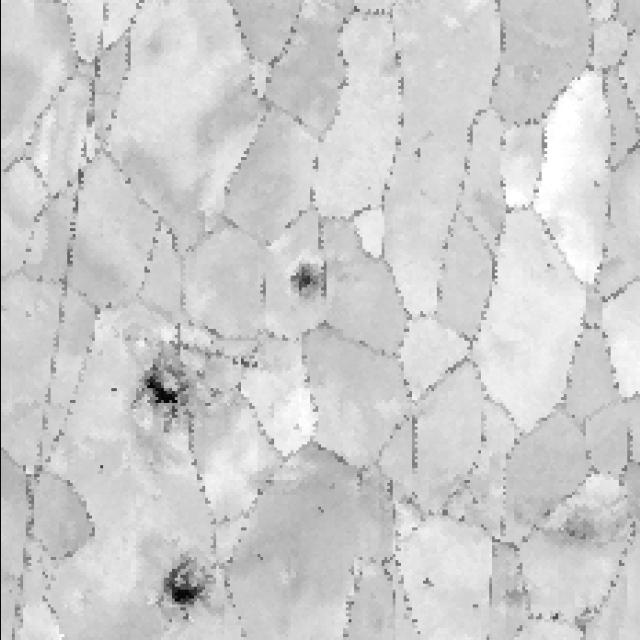good_void: (124, 334, 222, 438), (152, 548, 224, 628), (533, 504, 625, 565), (279, 252, 323, 309), (417, 561, 444, 606), (247, 543, 273, 580), (306, 496, 336, 528), (407, 135, 427, 168), (92, 451, 112, 479), (106, 380, 120, 399)
